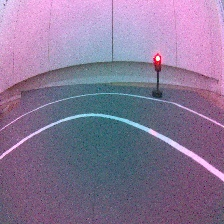red: (149, 52, 165, 101)
